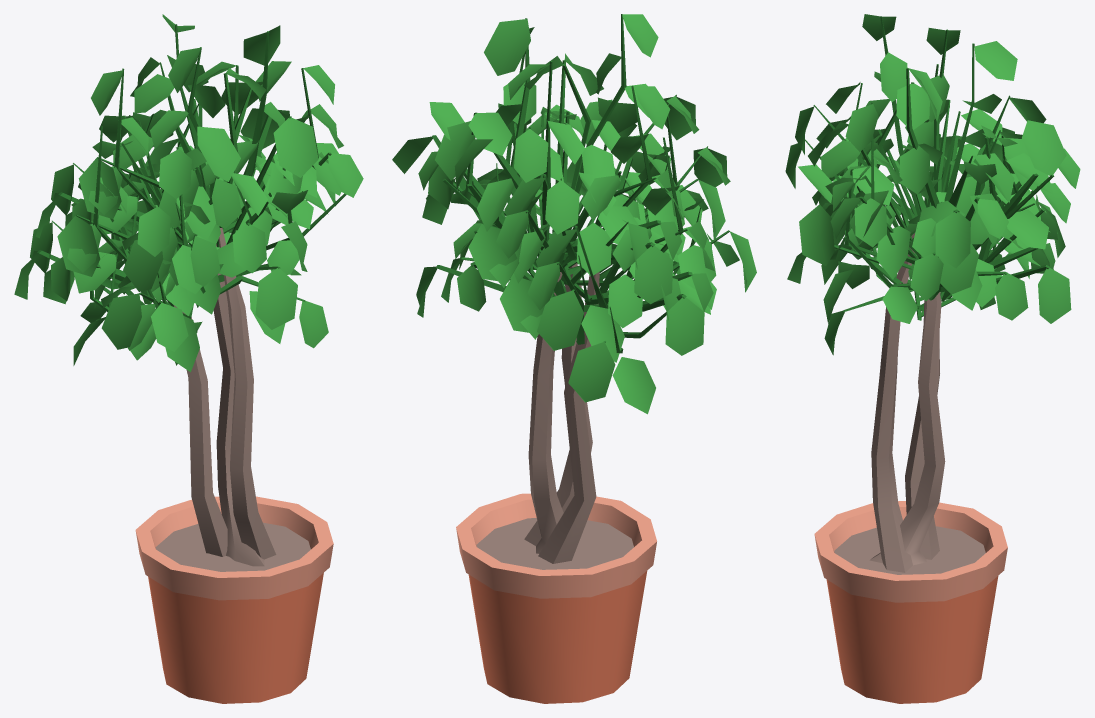
The model's file is Plants_M1.fbx.
The picture shows the model from 3 angles, left to right: view 1: azimuth 30°, elevation 25°; view 2: azimuth 150°, elevation 25°; view 3: azimuth 270°, elevation 25°; orthographic projection. The views are drawn at different scales.
Parts seen in each view (by area): view 1: Plants_M1; view 2: Plants_M1; view 3: Plants_M1.
Boxes of the visible parts, x1,y1,x2,y2 form: Plants_M1: (14,14,363,703); Plants_M1: (392,14,756,703); Plants_M1: (785,14,1080,703).
Size of the model in its own units: 0.5796 by 1.14 by 0.4824.
Materials: 1 (1 with a texture image).
